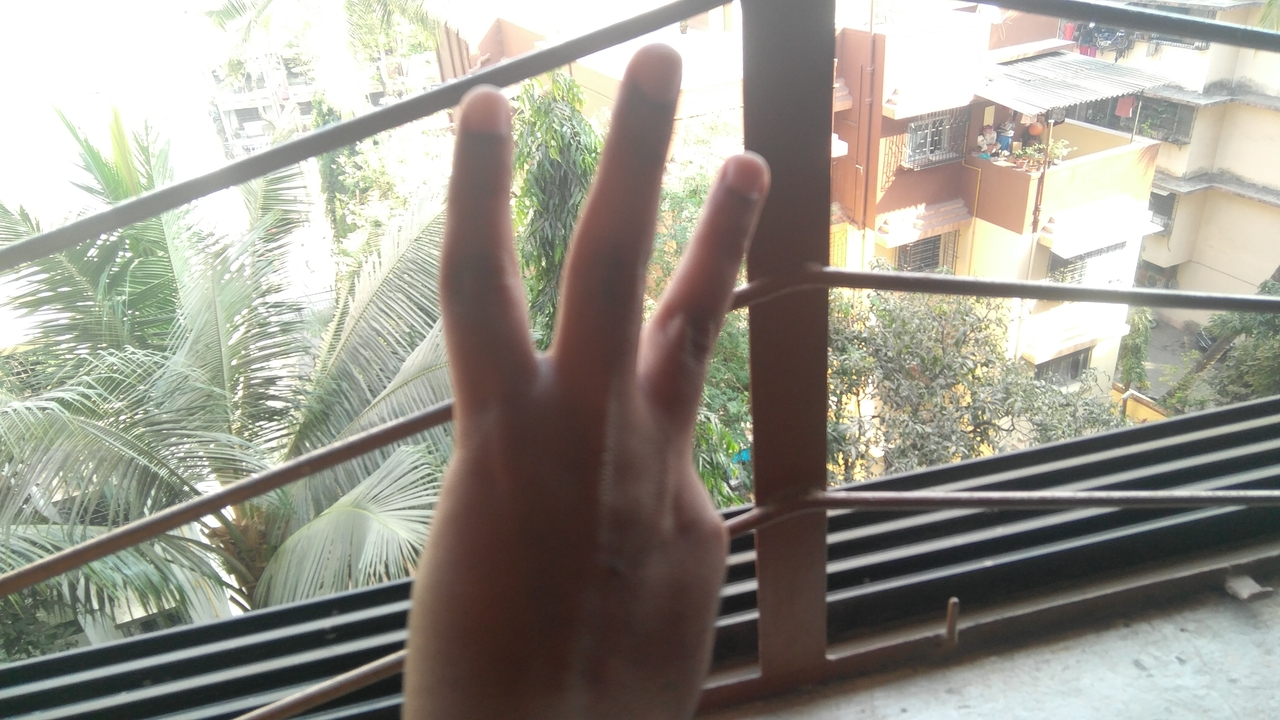fingertip: (448, 78, 512, 144), (622, 34, 686, 96), (708, 148, 770, 208)
